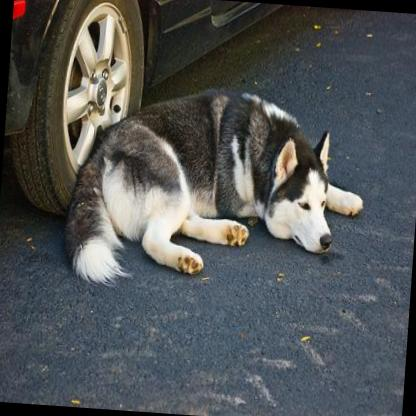Eskimo_dog: (62, 78, 371, 300)
